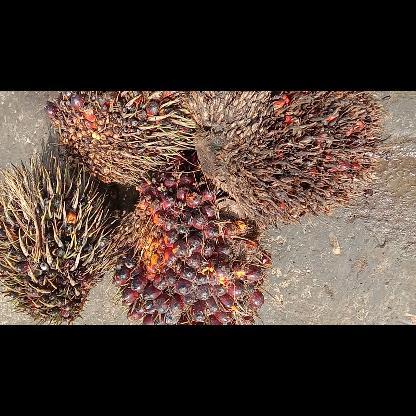Kurang masak: (0, 154, 116, 322)
TBS abnormal: (188, 91, 380, 229), (43, 90, 197, 184)
Terlalu masak: (116, 167, 272, 323)
